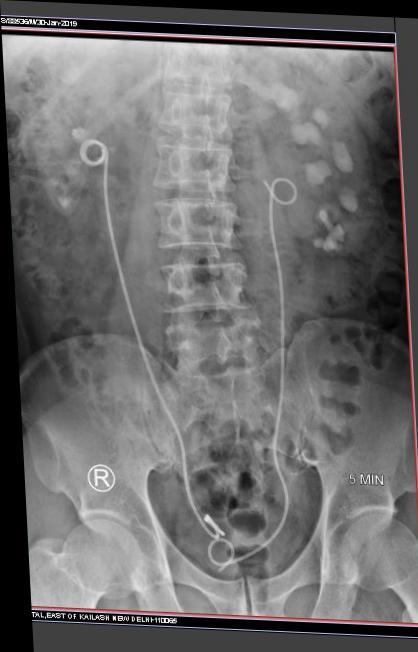bladder: (163, 488, 304, 579)
vertebrae: (156, 86, 234, 141)
